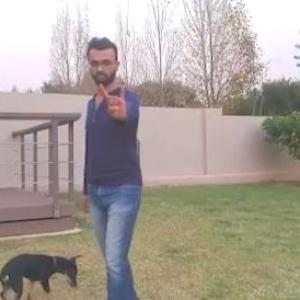takeoff-hand: (96, 79, 136, 121)
